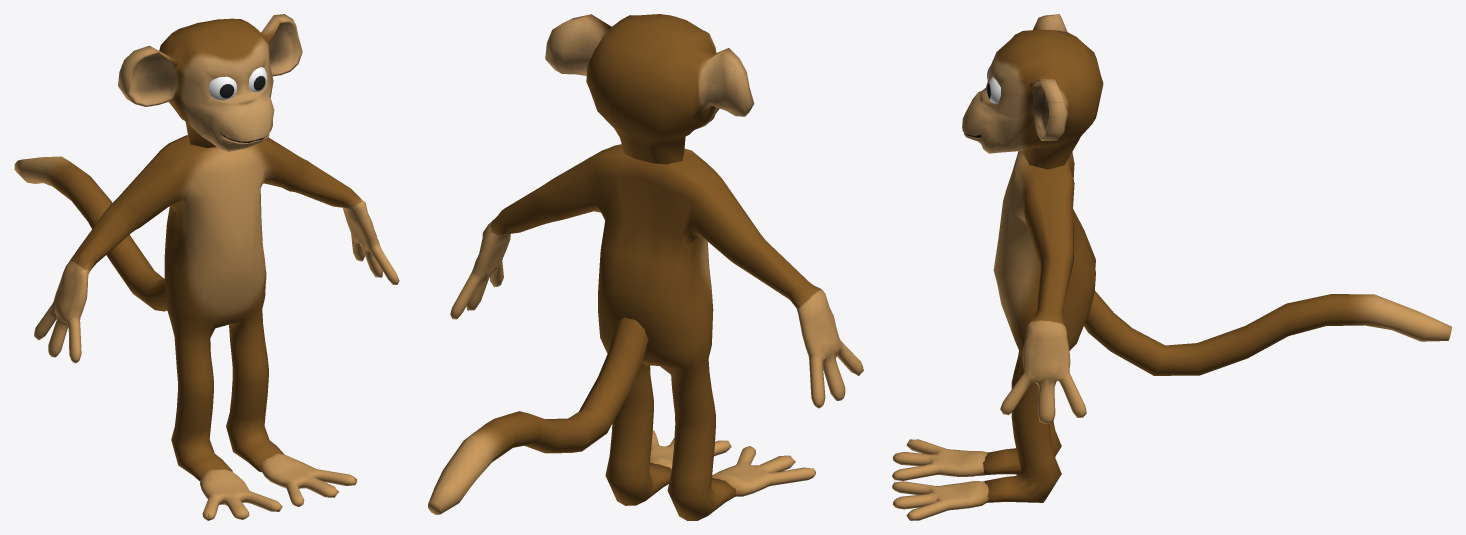
Rendered from MonkeyOBJ.obj.
3 views of the same model, side by side, from view 1: azimuth 30°, elevation 25°; view 2: azimuth 150°, elevation 25°; view 3: azimuth 270°, elevation 25° (orthographic). The views are drawn at different scales.
Parts seen in each view (by area): view 1: monkey; view 2: monkey; view 3: monkey.
Part boxes in pixels (x1,y1,x2,y2): monkey: (14,14,399,520); monkey: (428,14,863,520); monkey: (892,14,1451,520).
Bounding box in the file's own units: 141 × 176 × 198.
4 materials, 4 textured.
